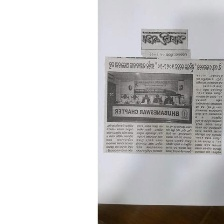news_paper: (101, 27, 223, 156)
